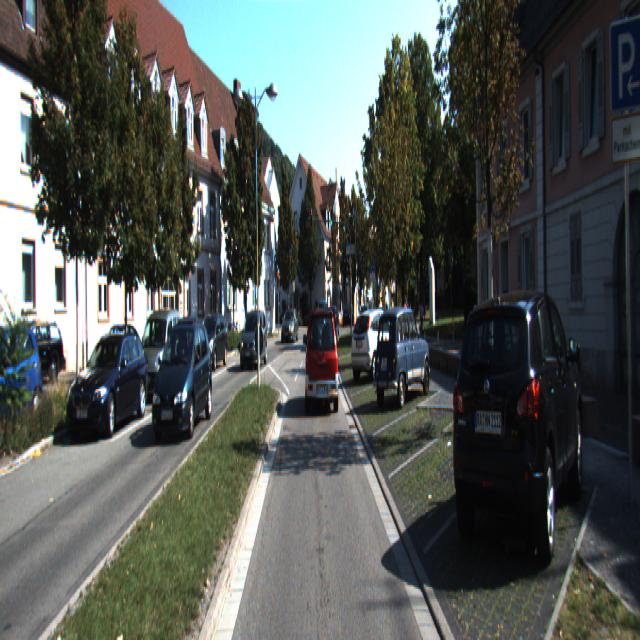Car: (450, 287, 586, 582), (66, 330, 150, 443), (150, 317, 213, 441), (371, 306, 432, 413), (0, 315, 67, 390), (0, 324, 43, 434), (134, 307, 182, 405), (350, 308, 401, 380), (306, 310, 340, 416), (144, 311, 184, 368), (196, 312, 228, 369), (239, 310, 268, 371), (240, 312, 267, 352), (281, 309, 299, 343), (326, 305, 338, 337), (343, 301, 356, 327)
